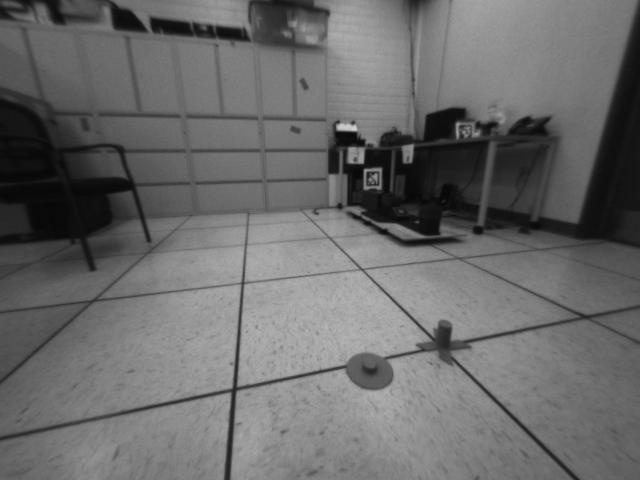X: (414, 319, 474, 366)
